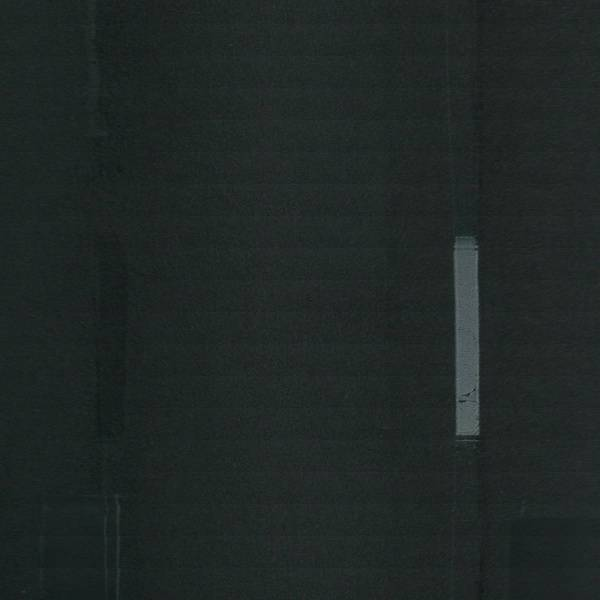road_damage: (35, 489, 125, 600), (468, 476, 493, 600)
